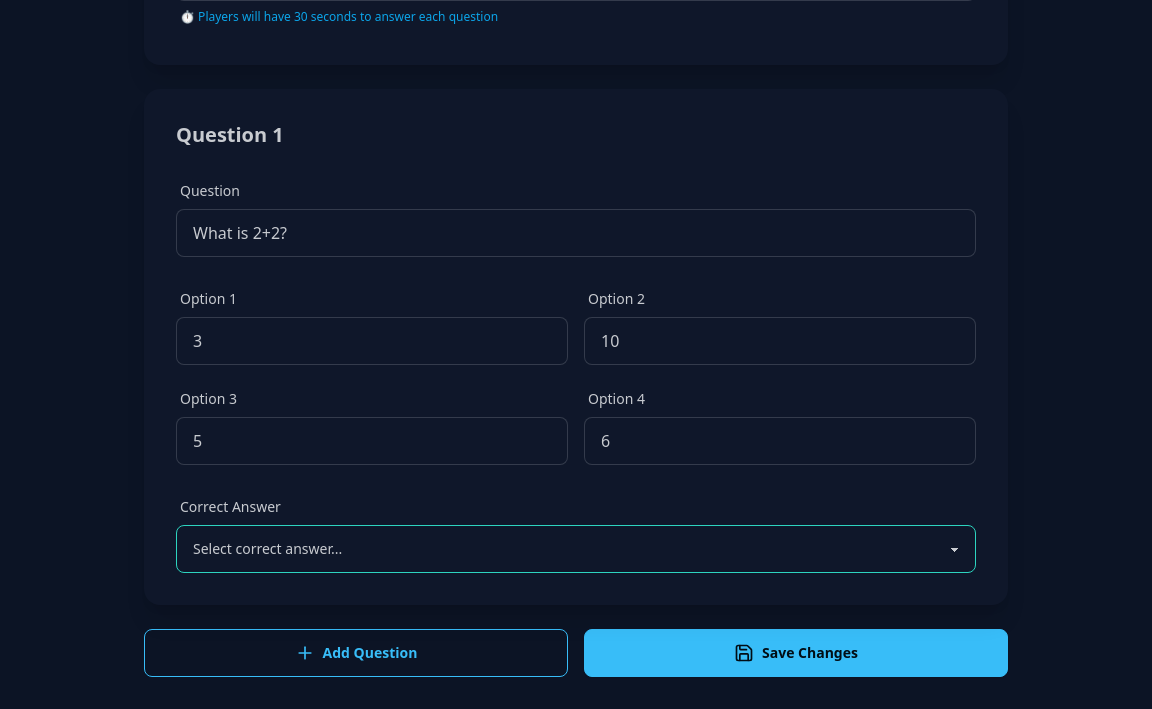
Test case: QuizEditPage › Question Management › adds a new question
The image size is (1152, 709).
(page scrolled)
Expected: the heading "Question 1" is shown, [176,121,284,149]
Click the button "Add Question" at [356, 653], box [144,629,568,677]
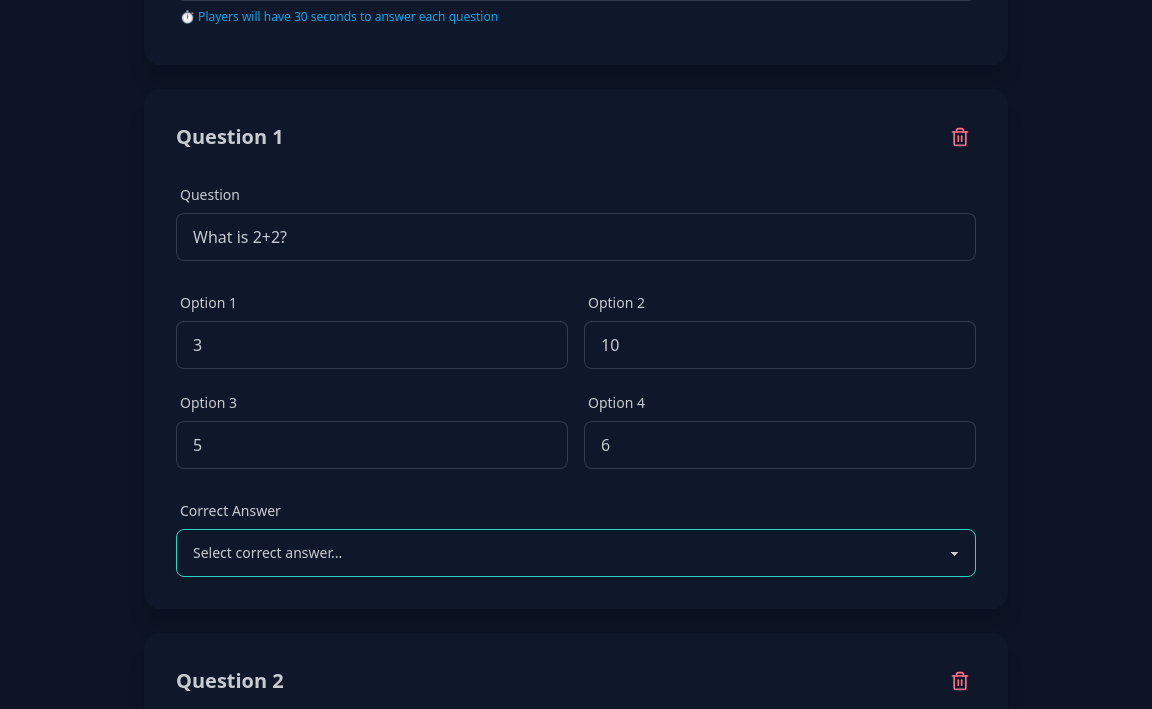
Expected: the heading "Question 2" is shown, [176,667,284,695]
